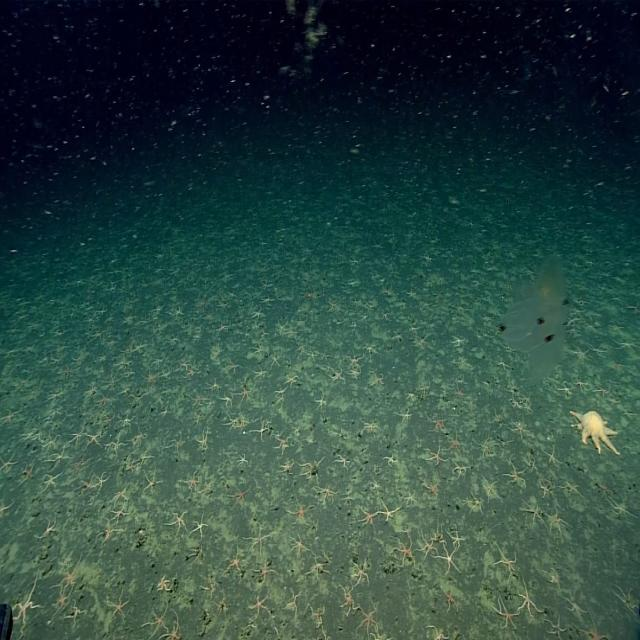brittle-stars: (14, 580, 41, 628), (187, 534, 212, 568), (244, 524, 270, 556), (355, 604, 378, 639), (581, 615, 612, 640), (494, 596, 518, 628), (519, 580, 539, 618), (494, 545, 517, 578), (391, 535, 414, 568), (107, 589, 130, 620), (616, 586, 639, 616), (58, 559, 80, 590), (198, 571, 220, 602), (144, 607, 168, 635), (486, 401, 507, 433), (214, 585, 233, 619), (16, 418, 38, 446), (564, 591, 586, 618), (438, 546, 459, 574), (253, 559, 276, 584), (288, 499, 310, 525), (340, 584, 358, 615), (230, 483, 252, 508), (248, 592, 270, 617), (377, 500, 400, 523), (300, 458, 323, 481), (522, 500, 544, 524), (225, 547, 242, 578), (548, 510, 568, 536), (309, 554, 329, 580), (351, 559, 370, 586), (168, 510, 188, 535), (547, 615, 567, 640), (41, 383, 66, 403), (608, 495, 630, 517), (98, 522, 120, 544), (506, 462, 527, 485), (66, 600, 85, 625), (164, 615, 183, 640), (451, 299, 473, 320), (54, 589, 72, 614), (175, 349, 192, 375), (426, 446, 446, 468), (48, 448, 70, 468), (464, 492, 483, 515), (542, 446, 561, 469), (418, 532, 436, 556), (39, 517, 58, 539), (143, 471, 161, 494), (289, 531, 306, 555), (483, 478, 500, 502), (159, 360, 176, 384), (443, 588, 459, 613), (448, 432, 464, 457), (510, 419, 530, 439), (426, 624, 451, 640), (358, 507, 377, 528), (126, 388, 148, 406), (41, 471, 60, 491), (0, 408, 19, 428), (315, 486, 336, 504), (424, 476, 440, 499), (200, 478, 216, 501), (0, 451, 16, 474), (191, 516, 207, 538), (294, 334, 309, 357), (107, 437, 125, 456), (110, 506, 129, 524), (71, 455, 89, 474), (309, 604, 326, 624), (0, 496, 14, 520), (21, 462, 36, 484), (33, 424, 46, 449), (570, 346, 588, 364), (110, 487, 127, 506), (78, 477, 95, 496), (252, 420, 268, 440), (450, 528, 466, 548), (183, 473, 199, 493), (94, 472, 110, 492), (158, 573, 174, 593), (170, 435, 186, 455), (276, 433, 291, 454), (547, 566, 561, 588), (336, 452, 353, 470), (361, 419, 378, 437), (42, 432, 59, 450), (451, 462, 468, 480), (428, 415, 444, 434), (618, 339, 638, 354), (390, 326, 404, 347), (188, 390, 205, 407), (118, 355, 135, 372), (562, 481, 580, 497), (572, 375, 588, 393), (132, 429, 148, 447), (306, 345, 320, 365), (197, 430, 210, 451), (87, 430, 103, 447), (279, 458, 295, 475), (125, 341, 142, 357), (235, 384, 250, 402), (403, 385, 417, 404), (481, 437, 493, 459), (396, 409, 412, 425), (104, 374, 120, 390), (376, 306, 392, 322), (144, 370, 158, 388), (70, 426, 84, 444), (270, 349, 283, 368), (314, 390, 326, 410), (226, 358, 241, 374), (284, 374, 300, 389), (348, 352, 363, 368), (590, 343, 606, 358), (84, 381, 99, 397), (371, 372, 385, 389), (525, 456, 539, 473), (538, 481, 552, 498), (324, 356, 336, 375), (558, 382, 573, 397), (496, 356, 511, 371), (121, 413, 135, 429), (224, 414, 238, 430), (384, 452, 398, 468), (138, 450, 152, 466), (363, 342, 377, 358), (152, 354, 166, 370), (98, 391, 111, 408), (451, 336, 466, 350), (598, 482, 612, 497), (209, 344, 223, 359), (251, 343, 265, 358), (456, 354, 470, 369), (332, 368, 345, 384), (219, 392, 232, 408), (185, 363, 198, 379), (594, 384, 610, 397), (419, 379, 432, 395), (348, 366, 362, 380), (216, 320, 230, 334), (262, 292, 276, 306), (626, 303, 640, 317), (92, 326, 105, 341), (454, 385, 466, 401), (407, 489, 418, 506), (253, 364, 266, 378), (251, 307, 264, 321), (124, 312, 137, 326), (208, 380, 221, 394), (294, 315, 306, 330), (277, 319, 289, 334), (152, 320, 164, 335), (127, 458, 138, 474), (238, 414, 249, 430), (417, 336, 430, 349), (420, 299, 433, 312), (237, 453, 249, 467), (328, 300, 340, 314), (508, 398, 520, 412), (173, 305, 185, 319), (217, 298, 229, 312), (160, 406, 172, 420), (369, 479, 380, 494), (102, 413, 113, 428), (302, 288, 314, 301), (607, 394, 620, 406), (118, 384, 130, 397), (191, 410, 202, 424), (152, 302, 163, 316), (315, 631, 332, 640), (523, 395, 533, 410), (406, 287, 418, 299), (262, 279, 274, 291), (198, 295, 209, 308), (432, 288, 443, 301), (509, 381, 519, 395), (359, 312, 370, 324), (276, 384, 287, 396), (352, 296, 363, 308), (320, 349, 330, 362), (410, 323, 420, 334)
